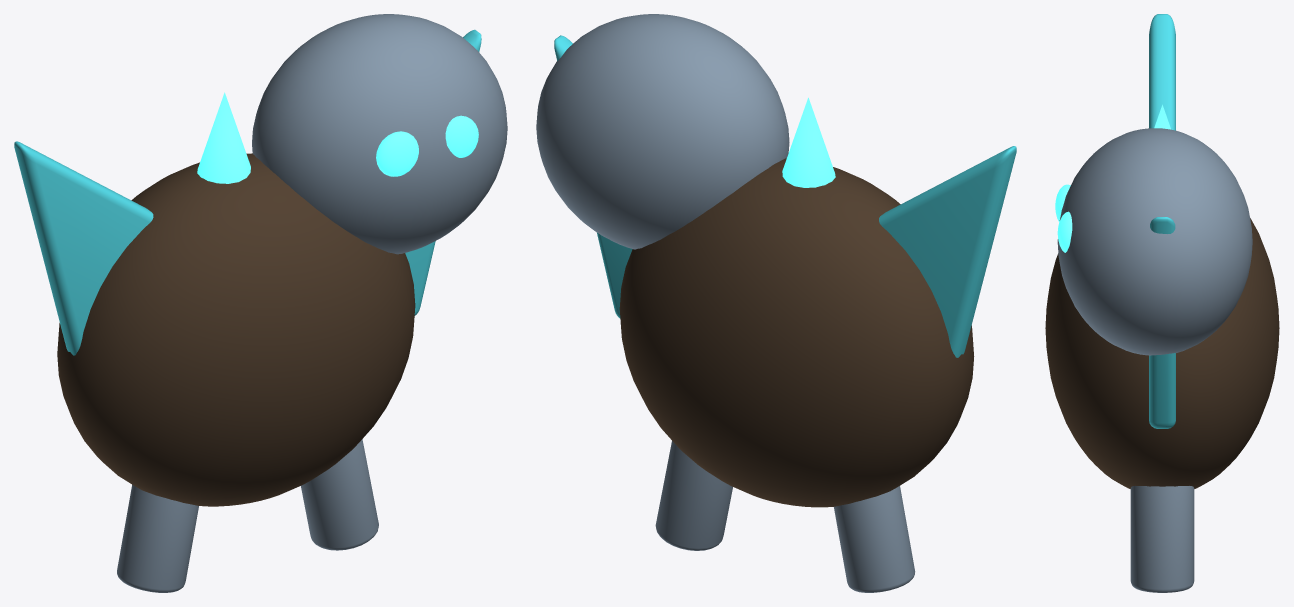
File: dragon_v6.glb
3 renders of one model, left to right at view 1: azimuth 30°, elevation 25°; view 2: azimuth 150°, elevation 25°; view 3: azimuth 270°, elevation 25°, orthographic. The views are drawn at different scales.
Parts seen in each view (by area): view 1: HATCHLING_BODY_SECONDARY, HATCHLING_HEAD_PRIMARY, HATCHLING_WING_ACCENT, HATCHLING_LEG_PRIMARY, HATCHLING_LEG_PRIMARY.001, HATCHLING_PLATE_EMISSIVE.002, EYE_EMISSIVE, HATCHLING_WING_ACCENT.001, EYE_EMISSIVE.001; view 2: HATCHLING_BODY_SECONDARY, HATCHLING_HEAD_PRIMARY, HATCHLING_WING_ACCENT, HATCHLING_LEG_PRIMARY, HATCHLING_LEG_PRIMARY.001, HATCHLING_PLATE_EMISSIVE.002, HATCHLING_WING_ACCENT.001; view 3: HATCHLING_HEAD_PRIMARY, HATCHLING_BODY_SECONDARY, HATCHLING_LEG_PRIMARY.001, HATCHLING_WING_ACCENT, HATCHLING_WING_ACCENT.001, EYE_EMISSIVE.001.
Boxes of the visible parts, x1,y1,x2,y2 form: HATCHLING_BODY_SECONDARY: [57, 153, 415, 506]; HATCHLING_HEAD_PRIMARY: [252, 14, 507, 254]; HATCHLING_WING_ACCENT: [14, 141, 153, 355]; HATCHLING_LEG_PRIMARY: [117, 484, 198, 592]; HATCHLING_LEG_PRIMARY.001: [301, 439, 378, 550]; HATCHLING_PLATE_EMISSIVE.002: [197, 92, 250, 183]; EYE_EMISSIVE: [376, 131, 418, 176]; HATCHLING_WING_ACCENT.001: [405, 29, 481, 315]; EYE_EMISSIVE.001: [445, 115, 478, 157]; HATCHLING_BODY_SECONDARY: [619, 158, 974, 507]; HATCHLING_HEAD_PRIMARY: [536, 14, 789, 249]; HATCHLING_WING_ACCENT: [879, 146, 1016, 357]; HATCHLING_LEG_PRIMARY: [834, 486, 915, 592]; HATCHLING_LEG_PRIMARY.001: [655, 441, 732, 550]; HATCHLING_PLATE_EMISSIVE.002: [782, 97, 835, 187]; HATCHLING_WING_ACCENT.001: [554, 35, 632, 318]; HATCHLING_HEAD_PRIMARY: [1057, 128, 1252, 355]; HATCHLING_BODY_SECONDARY: [1045, 218, 1279, 488]; HATCHLING_LEG_PRIMARY.001: [1130, 486, 1194, 592]; HATCHLING_WING_ACCENT: [1149, 14, 1175, 130]; HATCHLING_WING_ACCENT.001: [1149, 217, 1175, 428]; EYE_EMISSIVE.001: [1057, 211, 1072, 252].
Size of the model in its own units: 2.04 by 2.1 by 0.96.
